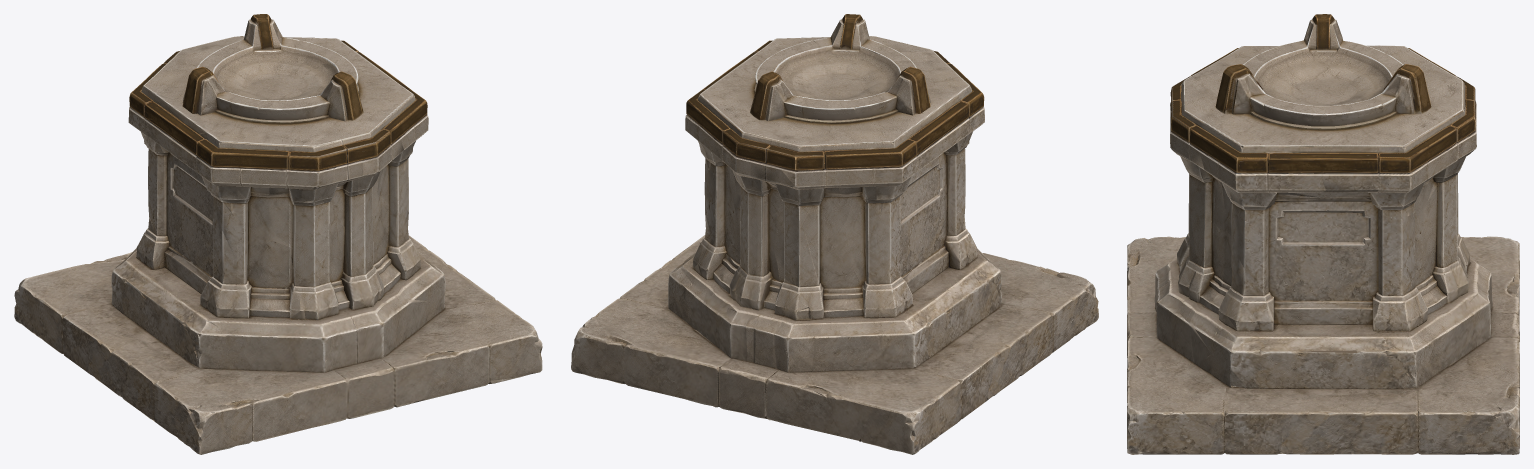
3 views of the same model, side by side, from view 1: azimuth 30°, elevation 25°; view 2: azimuth 150°, elevation 25°; view 3: azimuth 270°, elevation 25° (orthographic). The views are drawn at different scales.
Visible parts, largest first — view 1: Mesh_0; view 2: Mesh_0; view 3: Mesh_0.
Part boxes in pixels (x1=…): Mesh_0: x1=14, y1=14, x2=542, y2=454; Mesh_0: x1=571, y1=14, x2=1098, y2=454; Mesh_0: x1=1127, y1=14, x2=1519, y2=454.
Bounding box in the file's own units: 1.9 × 1.56 × 1.78.
Materials: 1 (1 with a texture image).
